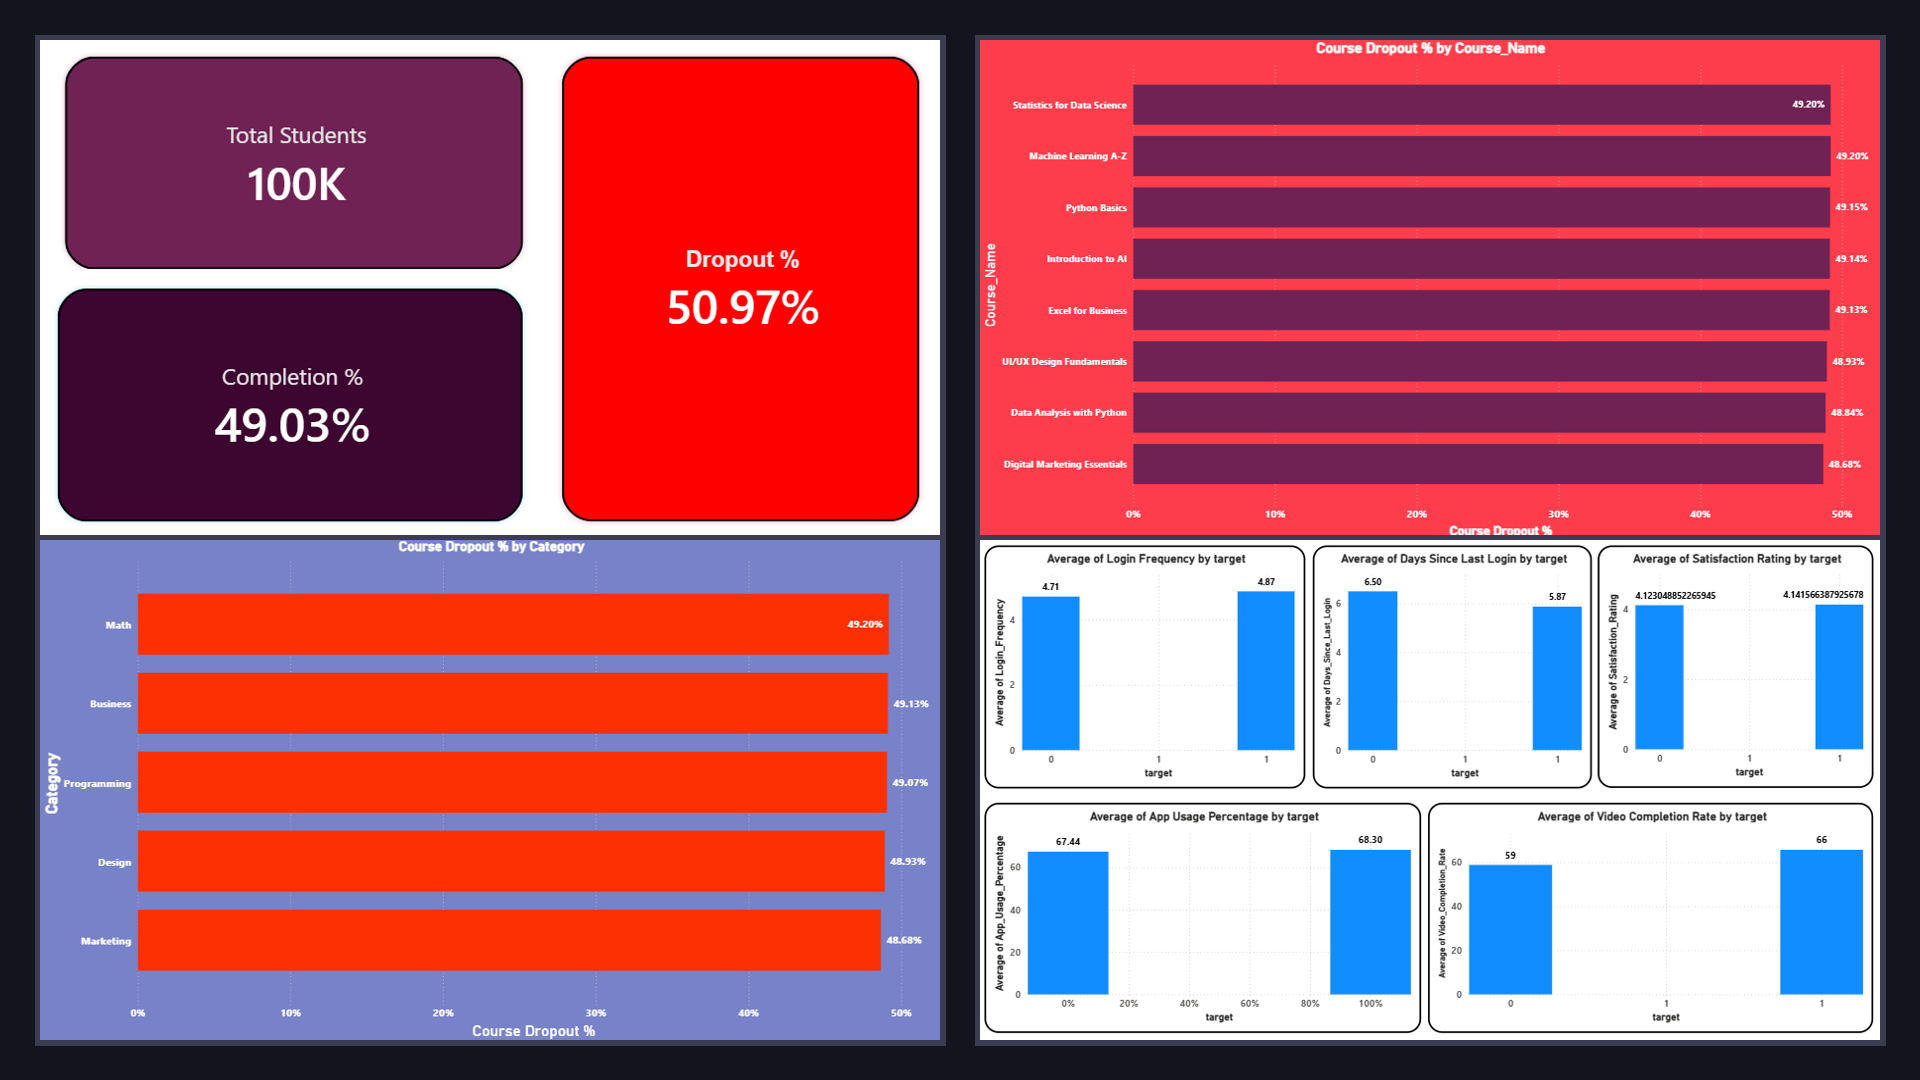

Layout of this report page (visuals, bound fields, positions):
{"tool":"powerbi","page":{"name":"Final Dashboard","canvas":[1500,1000],"ordinal":4},"visuals":[{"type":"cardVisual","title":"Total Students","fields":{"Data":["CountNonNull(final_data.Student_ID)"]},"box":[681.5,0,333.3,218.5],"z":0},{"type":"cardVisual","title":"Dropout Rate","fields":{"Data":["final_data.Dropout %"]},"box":[0,0,331.5,218.5],"z":1000},{"type":"cardVisual","title":"Completion Rate","fields":{"Data":["final_data.Completion %"]},"box":[331.5,0,350,218.5],"z":2000},{"type":"clusteredBarChart","title":"Dropout Rate by Course","fields":{"Category":["final_data.Course_Name"],"Y":["final_data.Course Dropout %"]},"box":[0,218.5,1014.8,451.9],"z":3000},{"type":"clusteredBarChart","title":"Dropout Rate by Category","fields":{"Y":["final_data.Course Dropout %"],"Category":["final_data.Category"]},"box":[0,670.4,438.9,329.6],"z":4000},{"type":"clusteredColumnChart","title":"Video Completion vs Dropout","fields":{"Y":["Avg(final_data.Video_Completion_Rate)"],"Category":["final_data.Status"]},"box":[1014.8,0,485.2,392.6],"z":5000},{"type":"clusteredColumnChart","title":"User Inactivity vs Dropout","fields":{"Category":["final_data.Status"],"Y":["CountNonNull(final_data.Days_Since_Last_Login)"]},"box":[1014.8,392.6,485.2,607.4],"z":6000},{"type":"advancedSlicerVisual","title":"Course Name","fields":{"Values":["final_data.Course_Name"]},"box":[438.9,761.1,424.1,238.9],"z":7000},{"type":"listSlicer","fields":{"Values":["final_data.Category"]},"box":[863,670.4,151.9,329.6],"z":8000},{"type":"advancedSlicerVisual","title":"Course Level","fields":{"Values":["final_data.Course_Level"]},"box":[438.9,670.4,424.1,90.7],"z":9000}]}

Visuals, with their boxes on the page's 1500x1000 design canvas (x1, y1, x2, y2). These are canvas units, not pixel positions in the 1920x1080 screenshot, which may show the page scaled, cropped or inside an application window:
"Total Students" cardVisual: {"x1": 682, "y1": 0, "x2": 1015, "y2": 218}
"Dropout Rate" cardVisual: {"x1": 0, "y1": 0, "x2": 332, "y2": 218}
"Completion Rate" cardVisual: {"x1": 332, "y1": 0, "x2": 682, "y2": 218}
"Dropout Rate by Course" clusteredBarChart: {"x1": 0, "y1": 218, "x2": 1015, "y2": 670}
"Dropout Rate by Category" clusteredBarChart: {"x1": 0, "y1": 670, "x2": 439, "y2": 1000}
"Video Completion vs Dropout" clusteredColumnChart: {"x1": 1015, "y1": 0, "x2": 1500, "y2": 393}
"User Inactivity vs Dropout" clusteredColumnChart: {"x1": 1015, "y1": 393, "x2": 1500, "y2": 1000}
"Course Name" advancedSlicerVisual: {"x1": 439, "y1": 761, "x2": 863, "y2": 1000}
listSlicer - final_data.Category: {"x1": 863, "y1": 670, "x2": 1015, "y2": 1000}
"Course Level" advancedSlicerVisual: {"x1": 439, "y1": 670, "x2": 863, "y2": 761}
